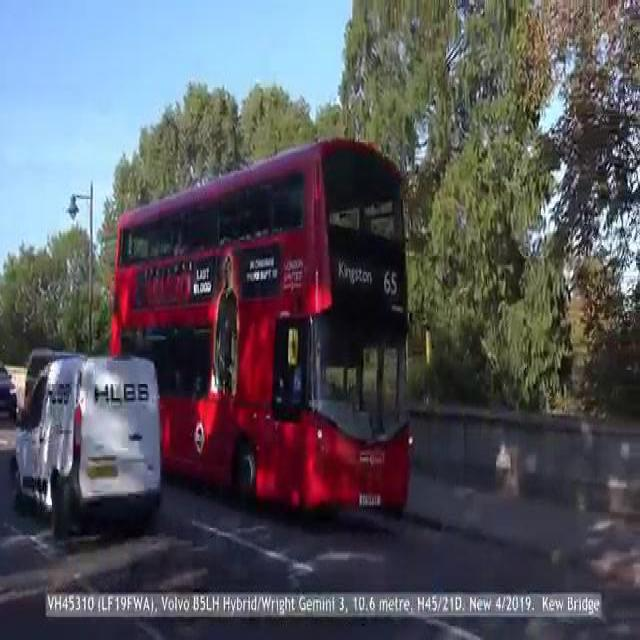motorcycle: (107, 132, 413, 506)
